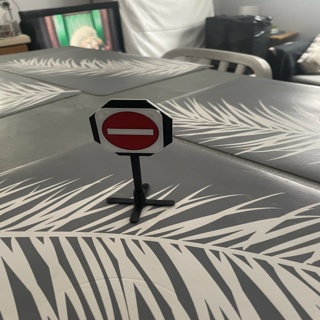sign_noentry: (95, 105, 162, 151)
